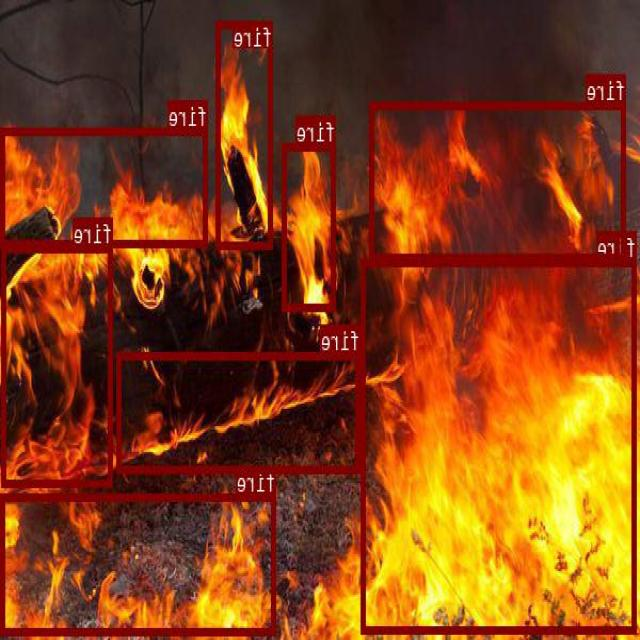fire: (362, 258, 638, 632), (371, 100, 627, 261), (2, 493, 277, 633), (117, 352, 360, 472), (3, 244, 113, 486), (2, 127, 209, 245), (218, 19, 274, 247), (283, 143, 337, 310)
